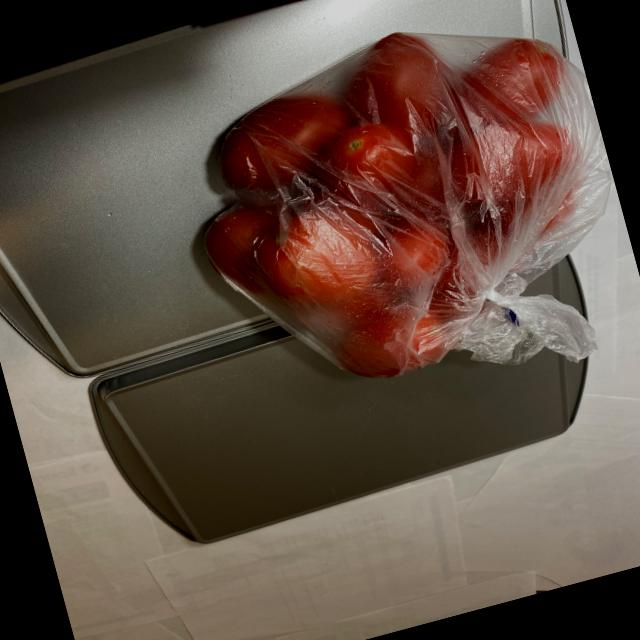tomato: (163, 0, 639, 414)
